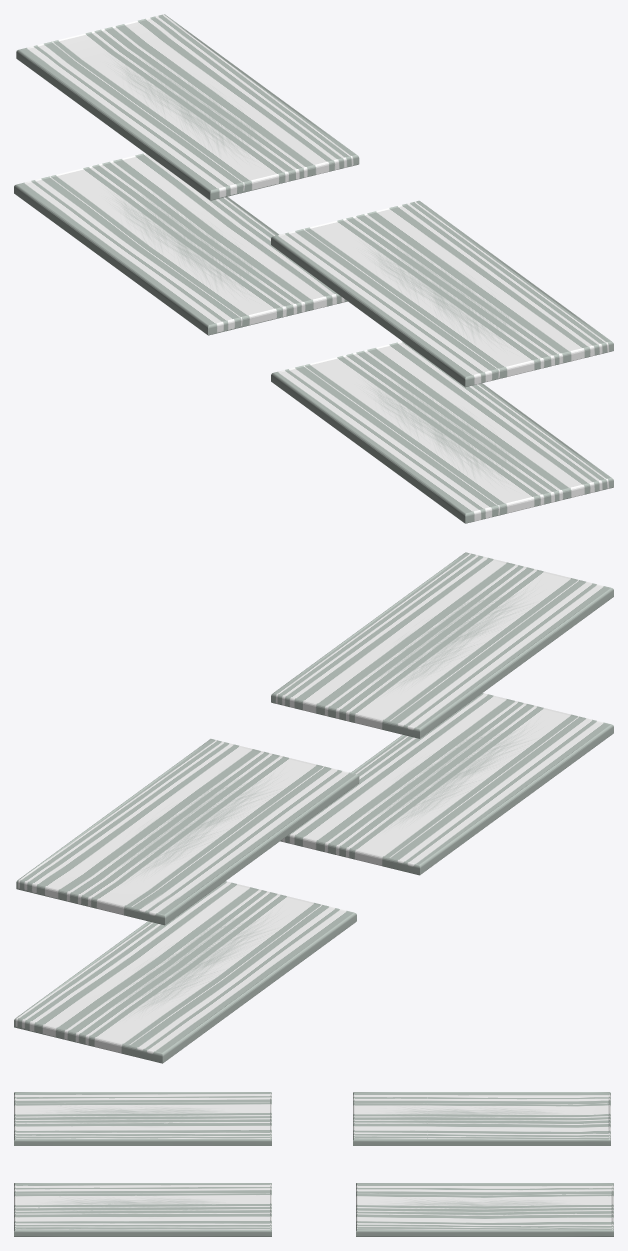
Rendered from camas_dorm_text.fbx.
3 renders of one model, top to bottom at view 1: azimuth 30°, elevation 25°; view 2: azimuth 150°, elevation 25°; view 3: azimuth 270°, elevation 25°, orthographic. The views are drawn at different scales.
Parts seen in each view (by area): view 1: cama_2, cama_1, cama_3, cama_4; view 2: cama_2, cama_1, cama_4, cama_3; view 3: cama_1, cama_2, cama_3, cama_4.
Boxes of the visible parts, x1,y1,x2,y2 form: cama_2: (16, 14, 359, 200); cama_1: (271, 200, 613, 387); cama_3: (271, 341, 613, 523); cama_4: (14, 153, 347, 335); cama_2: (16, 739, 359, 925); cama_1: (271, 552, 613, 738); cama_4: (14, 881, 356, 1063); cama_3: (280, 693, 613, 875); cama_1: (14, 1092, 271, 1145); cama_2: (353, 1092, 610, 1145); cama_3: (14, 1183, 271, 1236); cama_4: (356, 1183, 613, 1236).
Bounding box in the file's own units: 111 × 104 × 580.
1 material, 1 textured.
